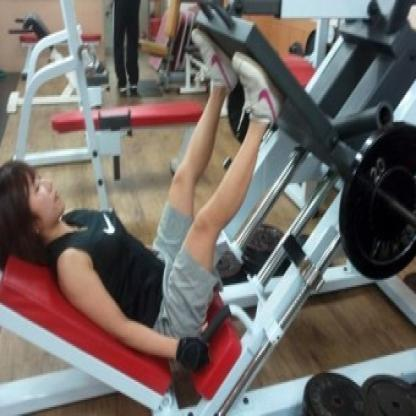leg press: (0, 0, 414, 416)
